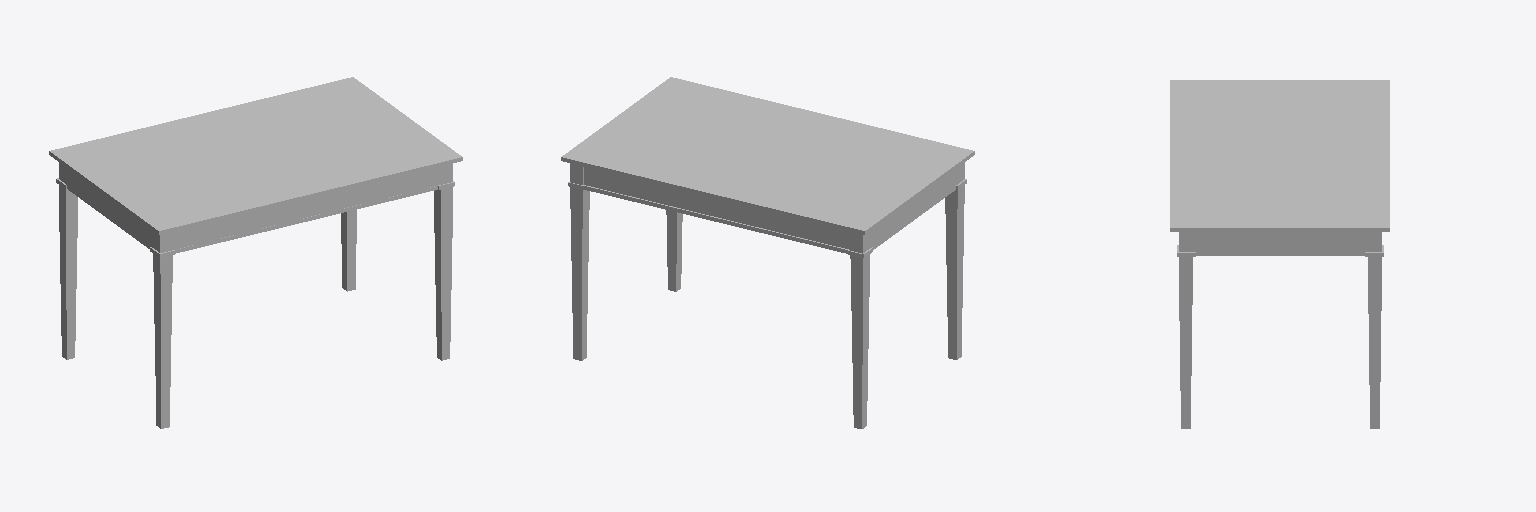
File: table01.obj
The picture shows the model from 3 angles: view 1: azimuth 30°, elevation 25°; view 2: azimuth 150°, elevation 25°; view 3: azimuth 270°, elevation 25°; orthographic projection.
Visible parts, largest first — view 1: Box11, Box33, Box39, Box40, Box38, Box17, Box37, Box18; view 2: Box11, Box20, Box38, Box37, Box39, Box17, Box18, Box40; view 3: Box11, Box32, Box40, Box37.
Boxes of the visible parts, x1=… form: Box11: x1=49, y1=77, x2=462, y2=234; Box33: x1=173, y1=167, x2=440, y2=249; Box39: x1=153, y1=254, x2=172, y2=428; Box40: x1=434, y1=187, x2=452, y2=360; Box38: x1=59, y1=185, x2=77, y2=359; Box17: x1=59, y1=163, x2=172, y2=252; Box37: x1=341, y1=210, x2=356, y2=291; Box18: x1=176, y1=186, x2=437, y2=252; Box11: x1=561, y1=77, x2=974, y2=234; Box20: x1=584, y1=167, x2=849, y2=249; Box38: x1=850, y1=255, x2=869, y2=428; Box37: x1=570, y1=187, x2=589, y2=360; Box39: x1=945, y1=185, x2=964, y2=359; Box17: x1=850, y1=163, x2=964, y2=253; Box18: x1=585, y1=186, x2=848, y2=253; Box40: x1=666, y1=210, x2=682, y2=291; Box11: x1=1170, y1=80, x2=1389, y2=231; Box32: x1=1179, y1=232, x2=1381, y2=255; Box40: x1=1179, y1=257, x2=1192, y2=428; Box37: x1=1368, y1=257, x2=1381, y2=428.
Size of the model in its own units: 1200 by 769 by 750.